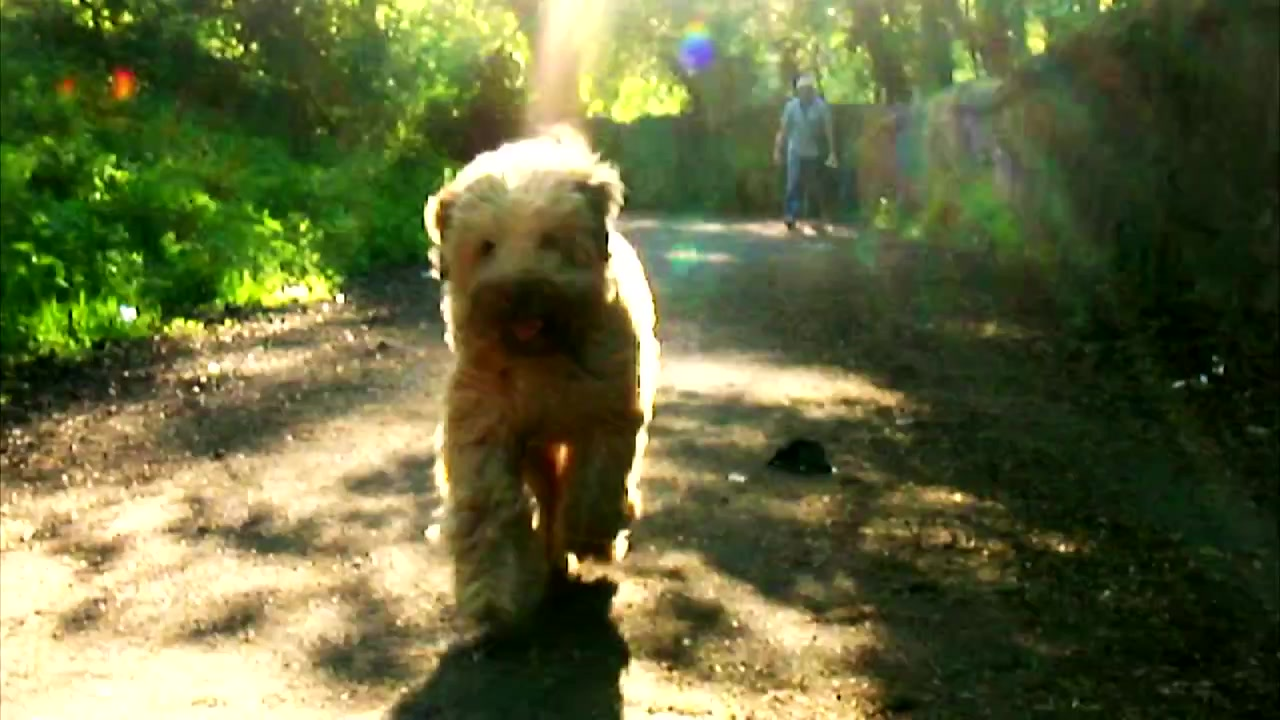dog: (422, 128, 663, 628)
